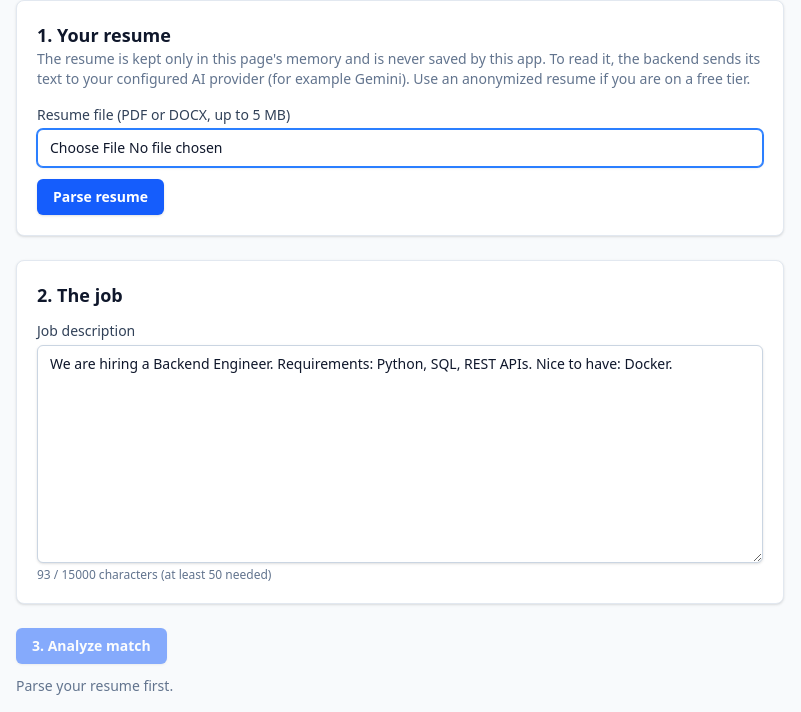
Scenario: MatchPage › cannot analyze until a resume is parsed and the job text is long enough
This screenshot has width=801, height=712.
Earlier steps of the test are not shown.
Click the button "Parse resume". click: (100, 197)
box: [37,179,164,215]
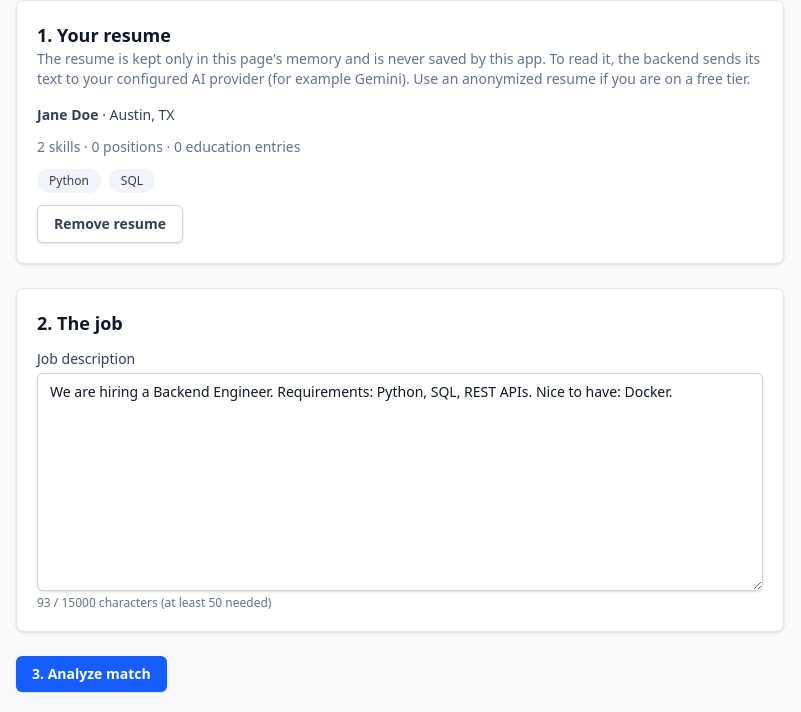
Now the text "Jane Doe" is shown, box [37,105,98,124]
Now the button "3. Analyze match" is enabled, box [16,656,167,692]
